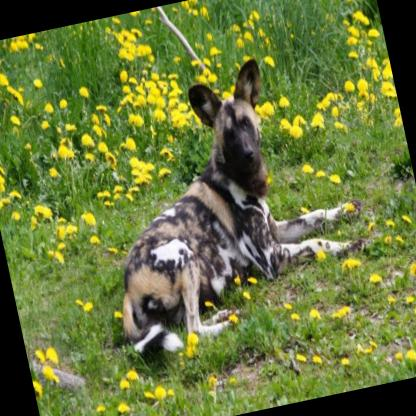African_hunting_dog: (70, 36, 386, 370)
